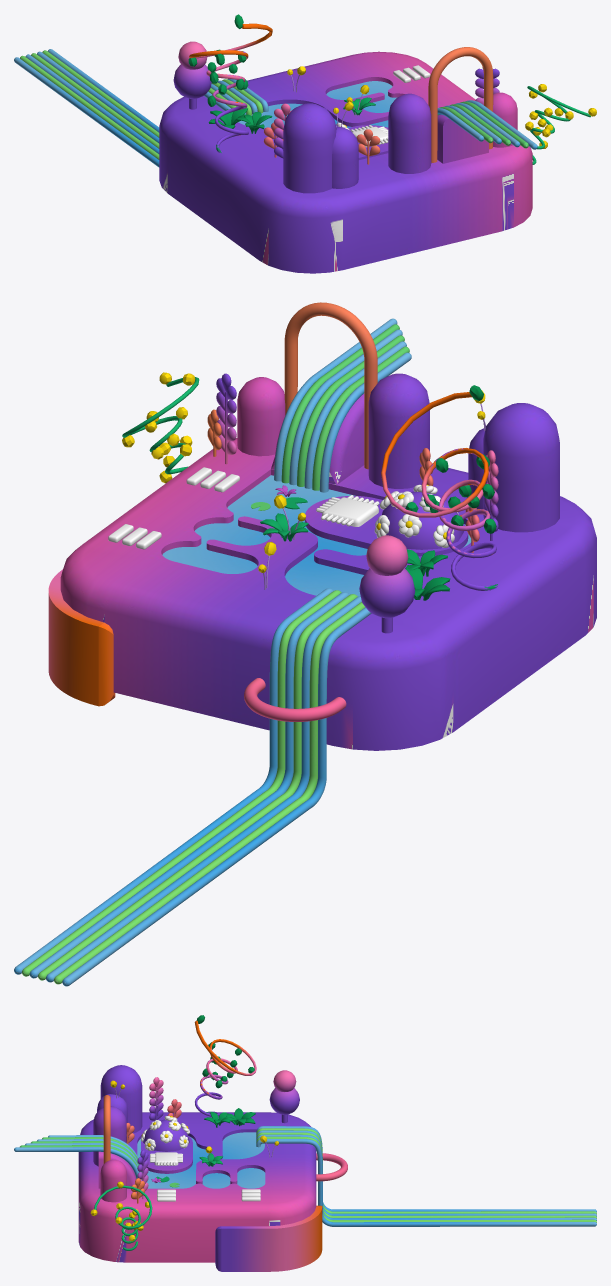
Rendered from renae_island_baking.gltf.
The picture shows the model from 3 angles, top to bottom: view 1: azimuth 30°, elevation 25°; view 2: azimuth 150°, elevation 25°; view 3: azimuth 270°, elevation 25°; orthographic projection. The views are drawn at different scales.
Visible parts, largest first — view 1: Floor, Blue Items, Light Green Items, Purple Gradient 3 Items, Dark Green Items, Pink Orange Items, Metal Bits, Left Spiral Balls, Tall Plant Back, Tall Plant Front; view 2: Floor, Blue Items, Light Green Items, Purple Gradient 3 Items, Pink Orange Items, Side Panel, Dark Green Items, Metal Bits, Flower Hill-Mat, Left Spiral Balls, Tall Plant Front; view 3: Floor, Blue Items, Side Panel, Light Green Items, Purple Gradient 3 Items, Dark Green Items, Pink Orange Items, Metal Bits, Flower Hill-Mat, Tall Plant Back, Left Spiral Balls, Tall Plant Front.
Part boxes in pixels (x1,y1,x2,y2): Floor: [159, 51, 532, 273]; Blue Items: [14, 49, 537, 167]; Light Green Items: [20, 50, 528, 159]; Purple Gradient 3 Items: [173, 23, 272, 152]; Dark Green Items: [188, 14, 590, 164]; Pink Orange Items: [263, 47, 493, 164]; Metal Bits: [351, 65, 430, 147]; Left Spiral Balls: [525, 84, 596, 148]; Tall Plant Back: [274, 103, 291, 158]; Tall Plant Front: [475, 67, 499, 104]; Floor: [60, 373, 596, 750]; Blue Items: [14, 318, 471, 986]; Light Green Items: [22, 324, 409, 984]; Purple Gradient 3 Items: [359, 392, 497, 633]; Pink Orange Items: [207, 302, 479, 721]; Side Panel: [48, 569, 115, 706]; Dark Green Items: [122, 377, 497, 600]; Metal Bits: [108, 467, 379, 549]; Flower Hill-Mat: [374, 484, 458, 547]; Left Spiral Balls: [122, 372, 195, 483]; Tall Plant Front: [216, 373, 236, 464]; Floor: [78, 1065, 316, 1262]; Blue Items: [14, 1126, 596, 1226]; Side Panel: [215, 1205, 322, 1271]; Light Green Items: [20, 1128, 596, 1222]; Purple Gradient 3 Items: [194, 1020, 299, 1123]; Dark Green Items: [94, 1015, 255, 1250]; Pink Orange Items: [103, 1095, 347, 1203]; Metal Bits: [149, 1152, 260, 1201]; Flower Hill-Mat: [141, 1116, 189, 1150]; Tall Plant Back: [149, 1077, 163, 1120]; Left Spiral Balls: [90, 1181, 149, 1241]; Tall Plant Front: [137, 1150, 148, 1198].
Size of the model in its own units: 3.92 by 2.85 by 8.05.
Materials: 13 (9 with a texture image).
